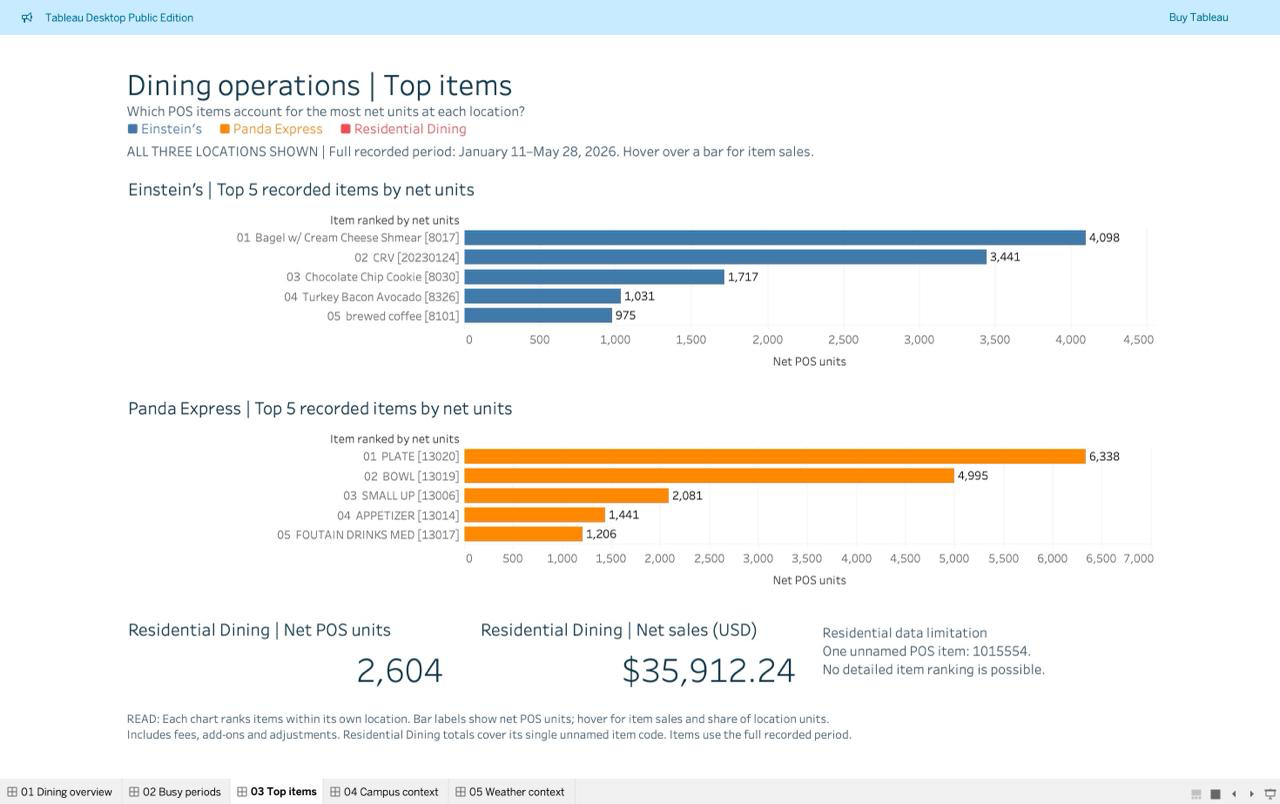

This screenshot's page, from the dashboard's own definition file:
{"tool":"tableau","page":{"name":"03 Top items","canvas":[1200,780],"ordinal":2},"visuals":[{"type":"text","box":[24.4,9.2,1151.3,40.4]},{"type":"text","box":[24.4,49.6,1151.3,19.3]},{"type":"text","box":[24.4,68.8,1151.3,19.3]},{"type":"text","box":[24.4,93.6,1151.3,22]},{"type":"worksheet","title":"03 Top item units","mark":"Bar","rows":["RankLabel"],"cols":["Units"],"box":[16.9,122,1166.3,241.3]},{"type":"worksheet","title":"03 Panda item units","mark":"Bar","rows":["RankLabel"],"cols":["Units"],"box":[16.9,367.1,1166.3,241.3]},{"type":"worksheet","title":"03 Residential units","mark":"Text","box":[16.9,615.7,375,99.1]},{"type":"worksheet","title":"03 Residential sales","mark":"Text","box":[410.6,615.7,375,99.1]},{"type":"text","box":[801.6,620.3,370.3,90.8]},{"type":"text","box":[24.4,727.7,1151.3,45]}]}

Visuals, with their boxes on the page's 1200x780 design canvas (x1, y1, x2, y2). These are canvas units, not pixel positions in the 1280x804 screenshot, which may show the page scaled, cropped or inside an application window:
text: x1=24 y1=9 x2=1176 y2=50
text: x1=24 y1=50 x2=1176 y2=69
text: x1=24 y1=69 x2=1176 y2=88
text: x1=24 y1=94 x2=1176 y2=116
"03 Top item units" worksheet (Bar marks): x1=17 y1=122 x2=1183 y2=363
"03 Panda item units" worksheet (Bar marks): x1=17 y1=367 x2=1183 y2=608
"03 Residential units" worksheet (Text marks): x1=17 y1=616 x2=392 y2=715
"03 Residential sales" worksheet (Text marks): x1=411 y1=616 x2=786 y2=715
text: x1=802 y1=620 x2=1172 y2=711
text: x1=24 y1=728 x2=1176 y2=773
